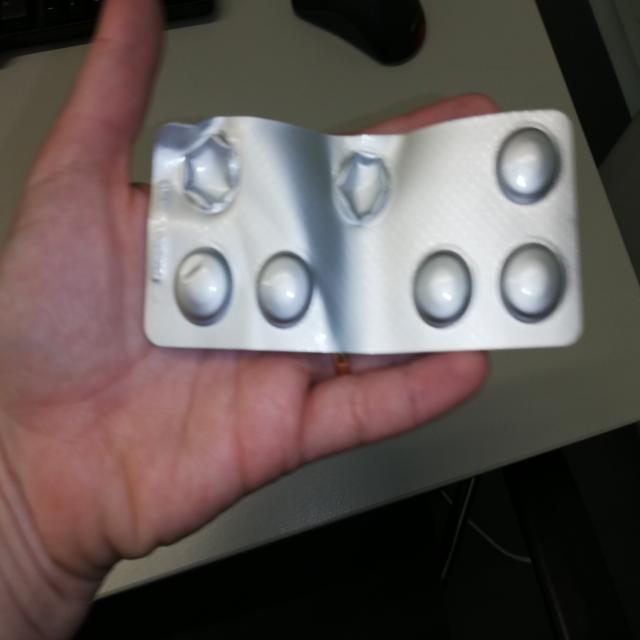Empty: (179, 128, 244, 218), (328, 145, 394, 228)
Pill: (498, 238, 566, 324), (410, 246, 474, 332), (495, 124, 562, 206), (172, 246, 234, 328), (254, 249, 316, 329)
